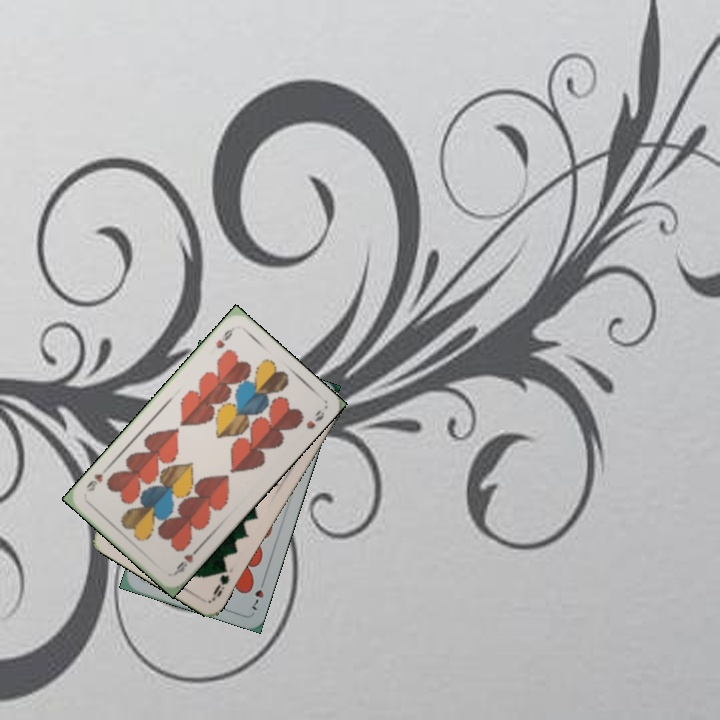G9: (208, 562, 232, 603)
H7: (248, 575, 268, 613)
H9: (170, 544, 202, 578), (212, 323, 237, 351)
